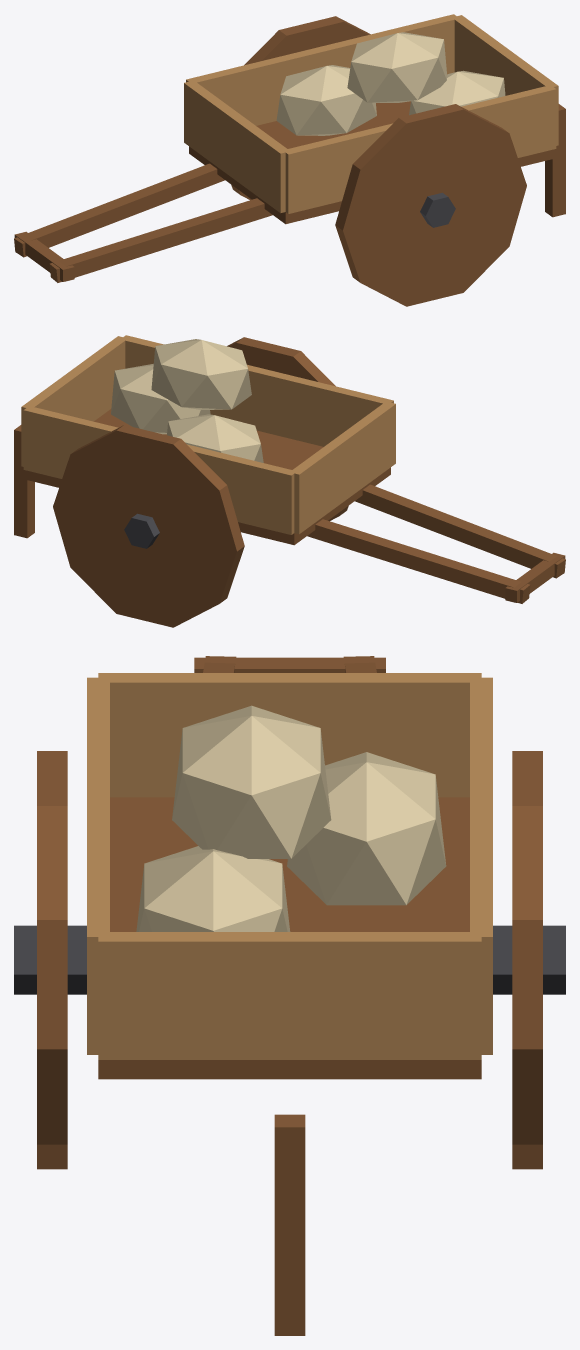
The model's file is Dorf_Karren.fbx.
3 renders of one model, top to bottom at view 1: azimuth 30°, elevation 25°; view 2: azimuth 150°, elevation 25°; view 3: azimuth 270°, elevation 25°, orthographic. The views are drawn at different scales.
Visible parts, largest first — view 1: Dorf_Karren; view 2: Dorf_Karren; view 3: Dorf_Karren.
Boxes of the visible parts, bbox=[...] form: Dorf_Karren: bbox=[14, 14, 565, 306]; Dorf_Karren: bbox=[14, 335, 565, 627]; Dorf_Karren: bbox=[14, 656, 565, 1335].
Bounding box in the file's own units: 3.15 × 1.3 × 1.44.
